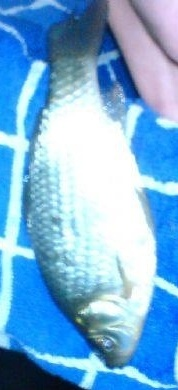Carassius carassius: (20, 1, 158, 370)
